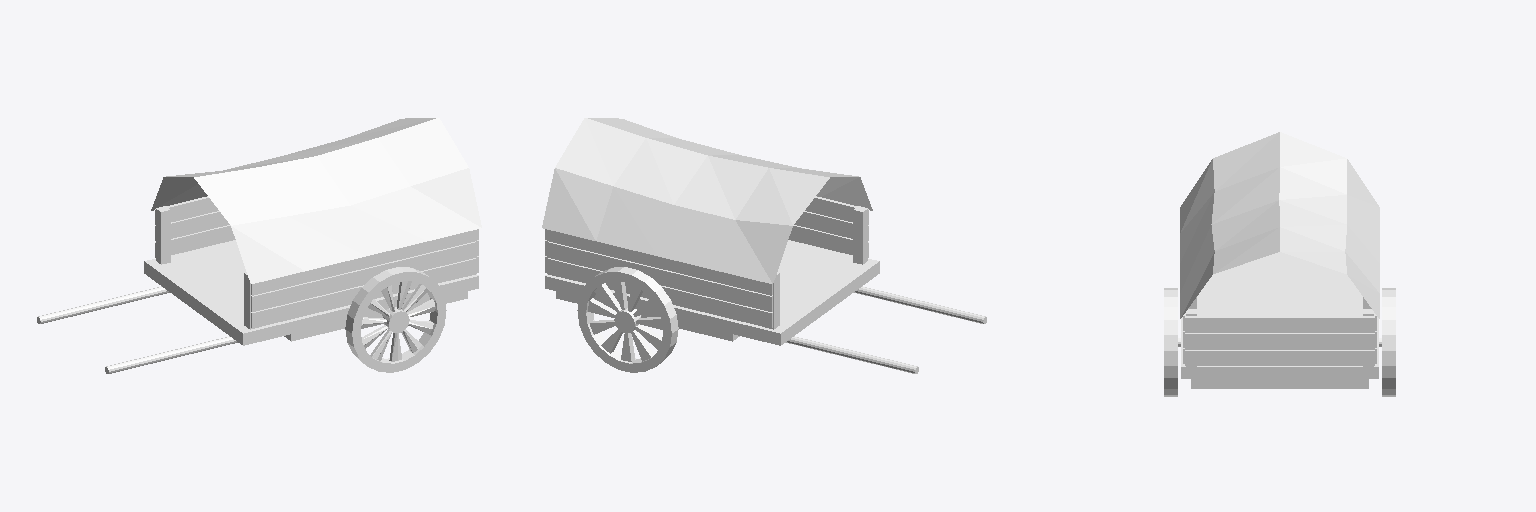
Rendered from Wagon.obj.
The picture shows the model from 3 angles: view 1: azimuth 30°, elevation 25°; view 2: azimuth 150°, elevation 25°; view 3: azimuth 270°, elevation 25°; orthographic projection.
Visible parts, largest first — view 1: RR_Cart_Cover_001, RR_Cart_002, RR_Cart_Wheel_001, RR_Cart_SideBoards_004, RR_Cart_SideBoards_001, RR_Cart_SideBoards_006, RR_Cart_Pole_001, RR_Cart_Pole_002, RR_Cart_SideBoards_002, RR_Cart_SideBoards_003, RR_Cart_Post_005, RR_Cart_SideBoards_005 (+1 smaller); view 2: RR_Cart_Cover_001, RR_Cart_002, RR_Cart_Wheel_002, RR_Cart_SideBoards_003, RR_Cart_SideBoards_002, RR_Cart_SideBoards_005, RR_Cart_Pole_002, RR_Cart_Pole_001, RR_Cart_SideBoards_001, RR_Cart_SideBoards_004, RR_Cart_Post_006, RR_Cart_SideBoards_006 (+1 smaller); view 3: RR_Cart_Cover_001, RR_Cart_002, RR_Cart_BackBoards_002, RR_Cart_BackBoards_003, RR_Cart_BackBoards_001, RR_Cart_001, RR_Cart_Wheel_001, RR_Cart_Wheel_002.
Boxes of the visible parts, box(x1,y1,x2,y2) form: RR_Cart_Cover_001: box(151, 118, 481, 283); RR_Cart_002: box(144, 240, 478, 345); RR_Cart_Wheel_001: box(345, 267, 446, 372); RR_Cart_SideBoards_004: box(251, 241, 476, 311); RR_Cart_SideBoards_001: box(251, 258, 476, 328); RR_Cart_SideBoards_006: box(251, 230, 476, 295); RR_Cart_Pole_001: box(105, 336, 237, 373); RR_Cart_Pole_002: box(37, 286, 169, 323); RR_Cart_SideBoards_002: box(155, 225, 235, 257); RR_Cart_SideBoards_003: box(155, 211, 229, 240); RR_Cart_Post_005: box(156, 206, 170, 264); RR_Cart_SideBoards_005: box(155, 196, 218, 224); RR_Cart_Cover_001: box(542, 118, 872, 283); RR_Cart_002: box(545, 240, 879, 345); RR_Cart_Wheel_002: box(577, 267, 678, 372); RR_Cart_SideBoards_003: box(547, 241, 772, 311); RR_Cart_SideBoards_002: box(547, 258, 772, 328); RR_Cart_SideBoards_005: box(547, 230, 772, 295); RR_Cart_Pole_002: box(786, 336, 918, 373); RR_Cart_Pole_001: box(854, 286, 986, 323); RR_Cart_SideBoards_001: box(788, 225, 868, 257); RR_Cart_SideBoards_004: box(794, 211, 868, 240); RR_Cart_Post_006: box(853, 206, 867, 264); RR_Cart_SideBoards_006: box(805, 196, 868, 224); RR_Cart_Cover_001: box(1180, 132, 1379, 318); RR_Cart_002: box(1181, 252, 1378, 378); RR_Cart_BackBoards_002: box(1185, 333, 1374, 349); RR_Cart_BackBoards_003: box(1185, 316, 1374, 332); RR_Cart_BackBoards_001: box(1185, 350, 1374, 365); RR_Cart_001: box(1191, 379, 1368, 388); RR_Cart_Wheel_001: box(1164, 288, 1381, 396); RR_Cart_Wheel_002: box(1382, 288, 1395, 396).
Bounding box in the file's own units: 244 × 119 × 134.